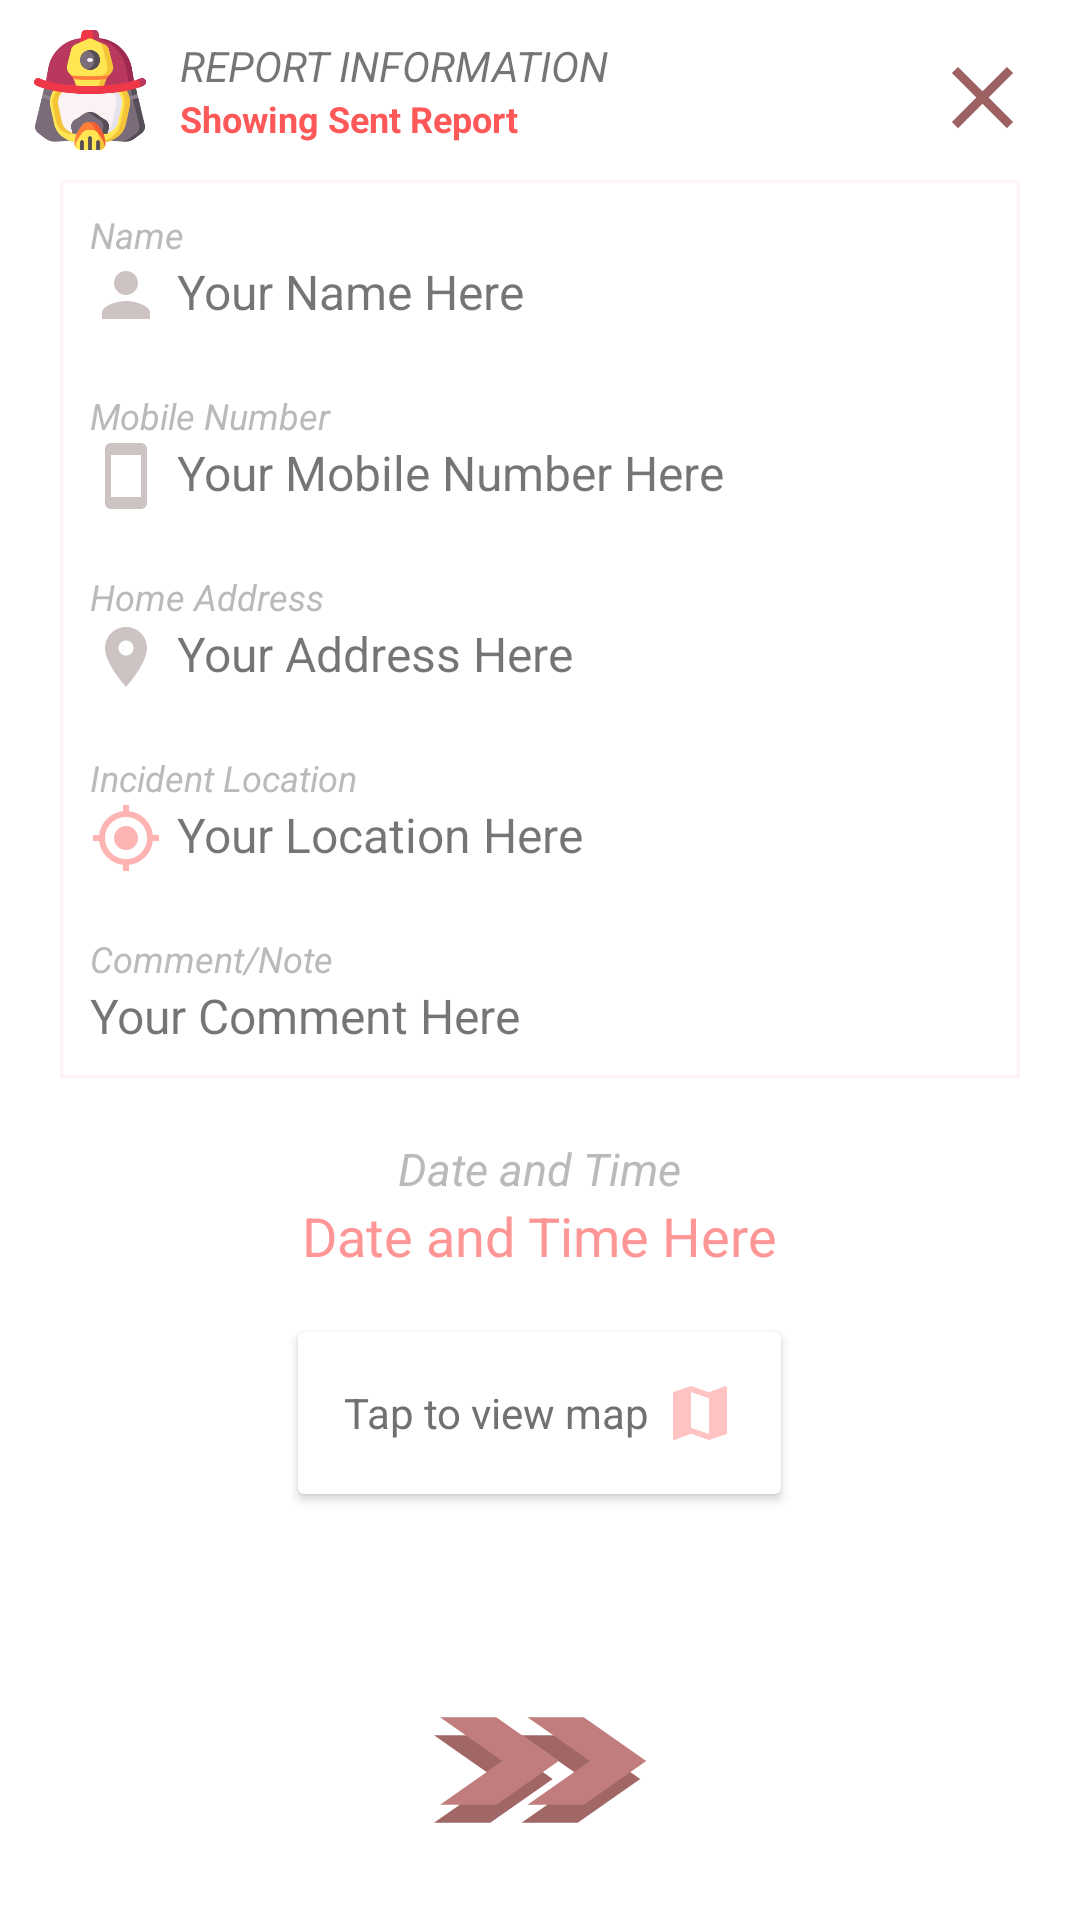

Named icons in this screenshot (1080x1920) and their bounding boxes, BBox(x1, y1, x2, y2):
close: BBox(952, 67, 1013, 128)
fighter: BBox(34, 30, 146, 150)
